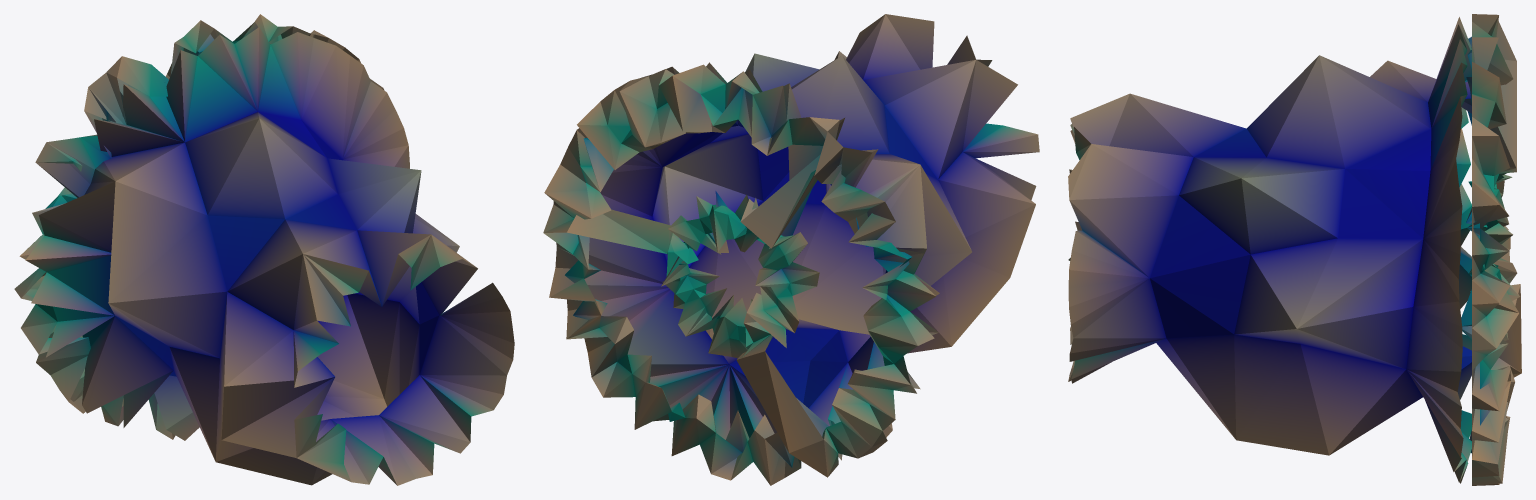
The model's file is lamp_shade_2_final200.obj.
3 renders of one model, left to right at view 1: azimuth 30°, elevation 25°; view 2: azimuth 150°, elevation 25°; view 3: azimuth 270°, elevation 25°, orthographic. The views are drawn at different scales.
Bounding box in the file's own units: 1.29 × 1.29 × 1.24.
